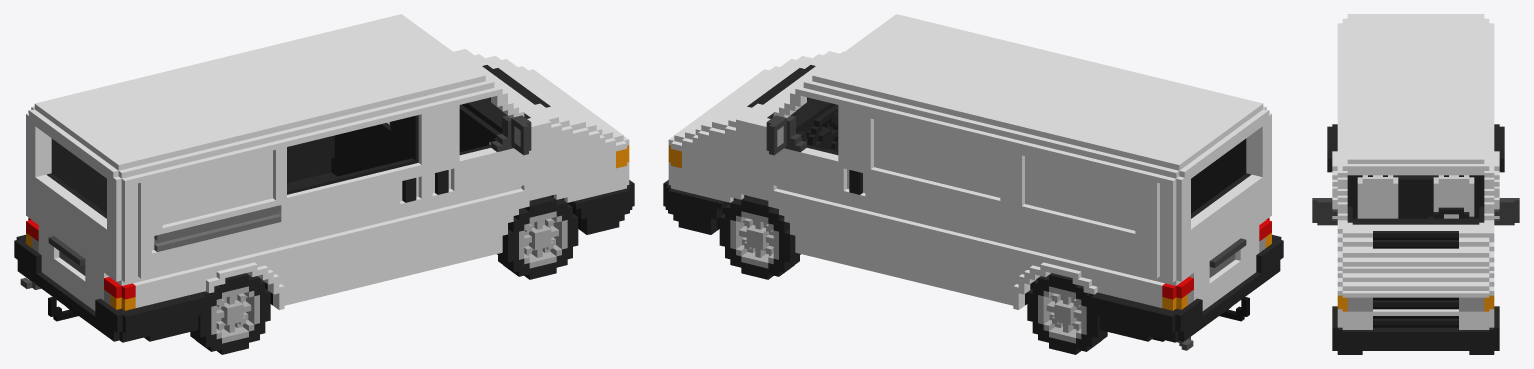
Rendered from delivery_van.glb.
The picture shows the model from 3 angles, left to right: view 1: azimuth 30°, elevation 25°; view 2: azimuth 150°, elevation 25°; view 3: azimuth 270°, elevation 25°; orthographic projection. The views are drawn at different scales.
Parts seen in each view (by area): view 1: Object_2; view 2: Object_2; view 3: Object_2.
Boxes of the visible parts, bbox=[...] form: Object_2: bbox=[14, 14, 634, 354]; Object_2: bbox=[663, 14, 1283, 354]; Object_2: bbox=[1312, 14, 1519, 354].
Bounding box in the file's own units: 10 × 3.7 × 4.1.
1 material, 1 textured.
